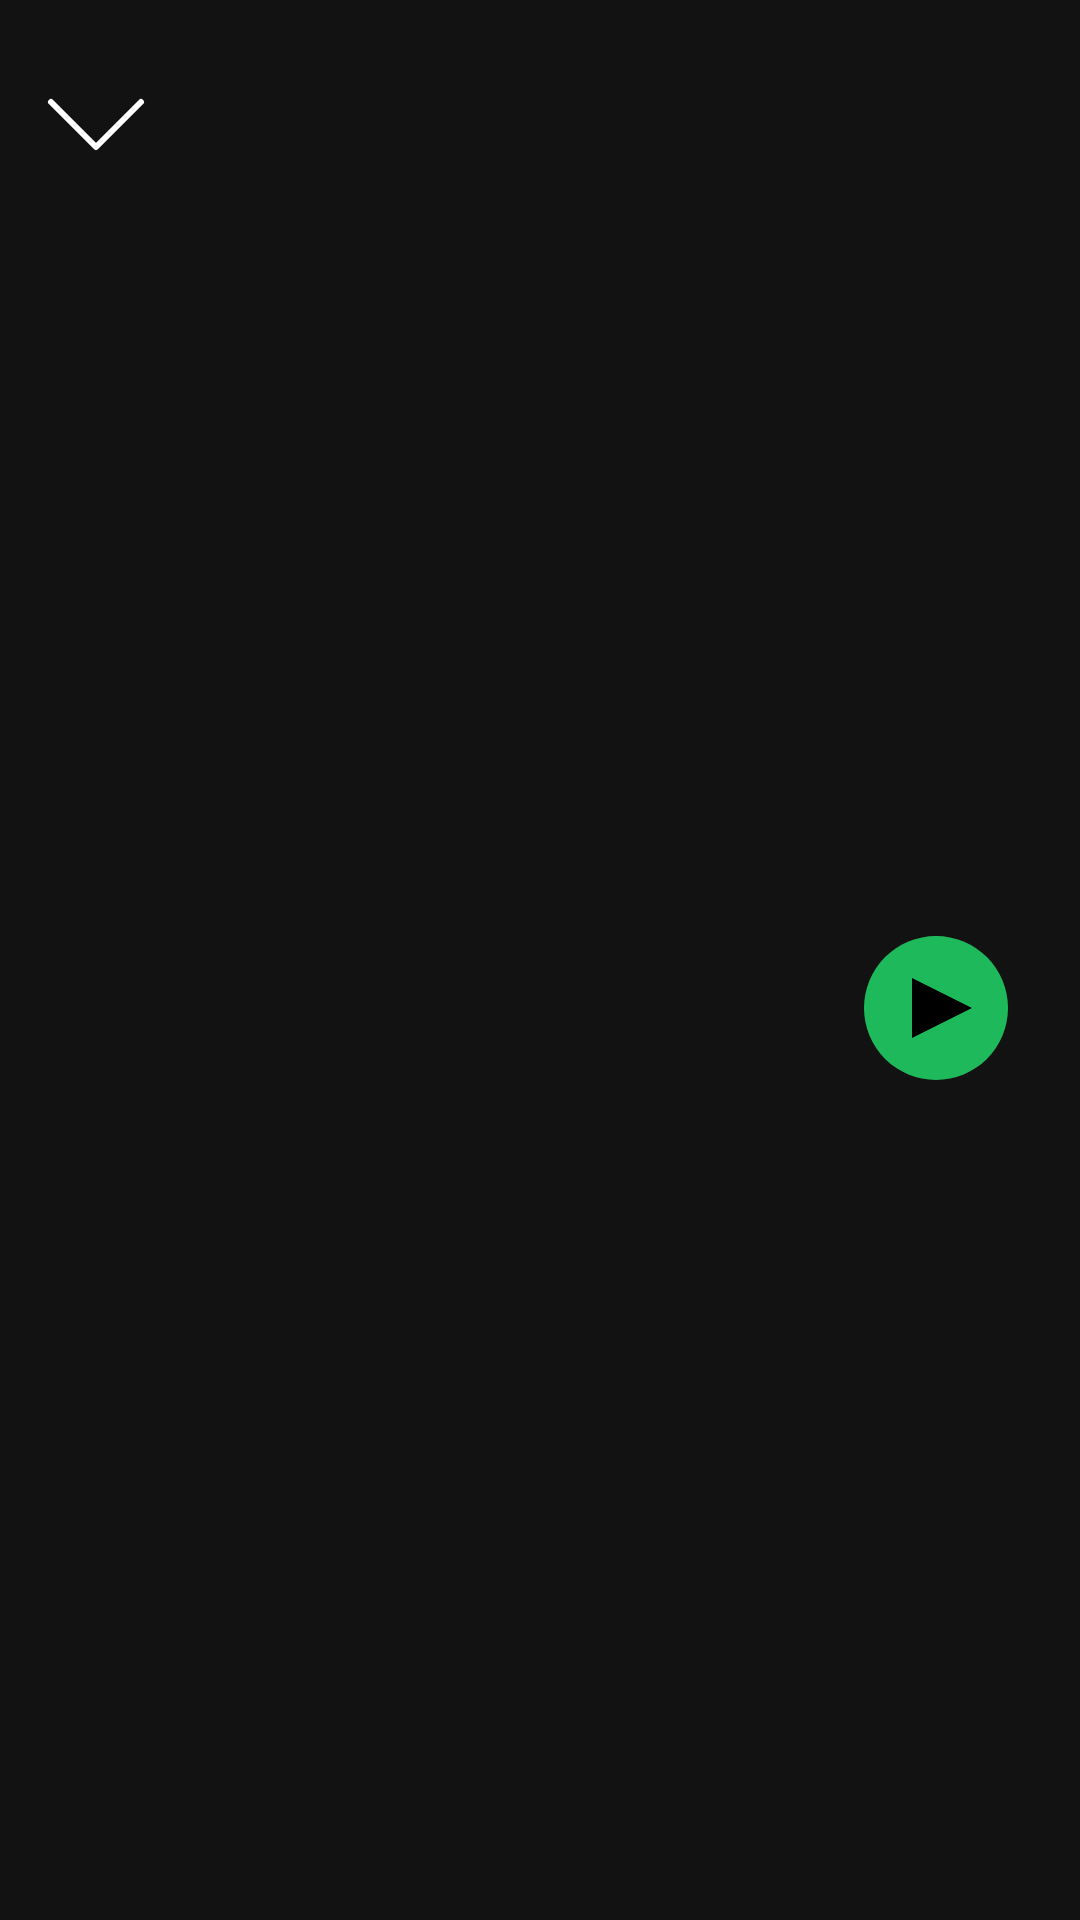

Where icons sit on this 1080px x 1920px app screen, as (x1, y1, x2, y2):
Close player screen: (48, 98, 144, 150)
Play button: (876, 936, 1008, 1080)
